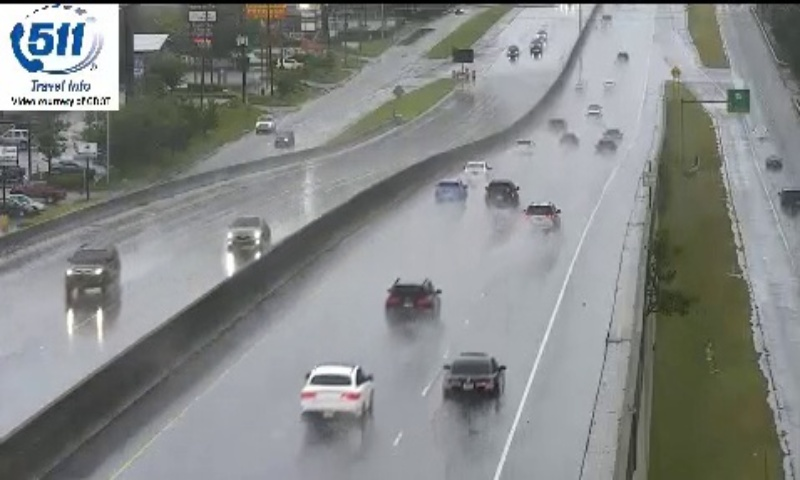car: (299, 365, 373, 420), (445, 352, 503, 401), (384, 278, 441, 321), (485, 179, 520, 211), (522, 201, 558, 230), (434, 179, 466, 203), (463, 160, 488, 184)
